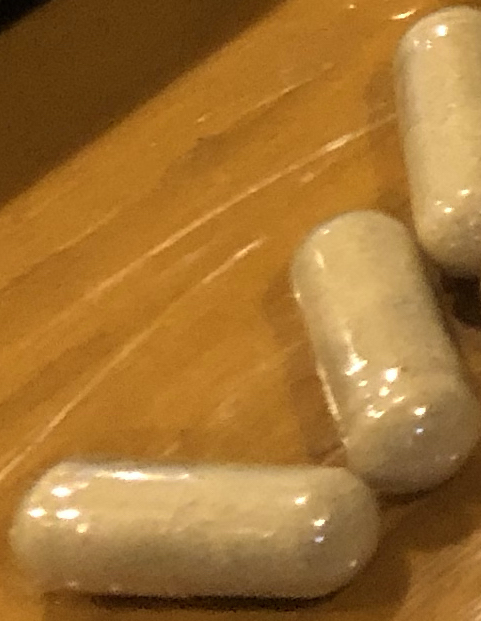capsule: (292, 206, 474, 493), (12, 464, 382, 601), (389, 4, 481, 273)
